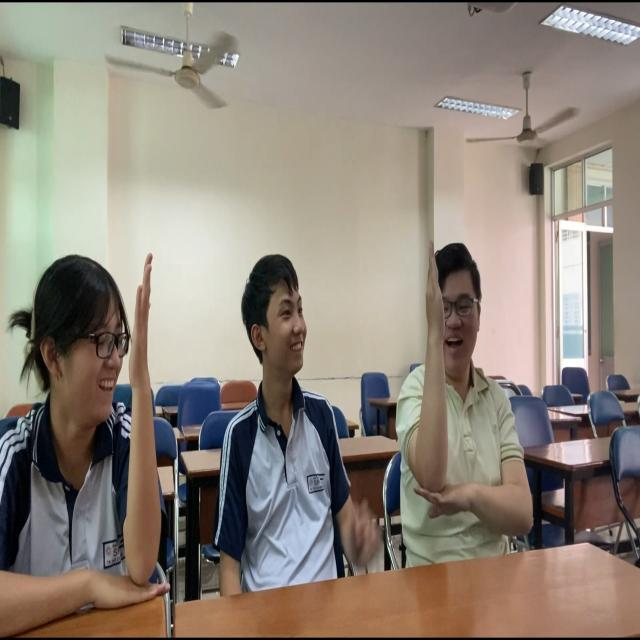raise_hand: (1, 184, 197, 640), (401, 209, 541, 551)
